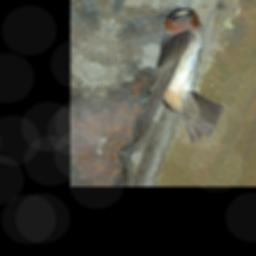Swallow: (120, 2, 253, 169)
